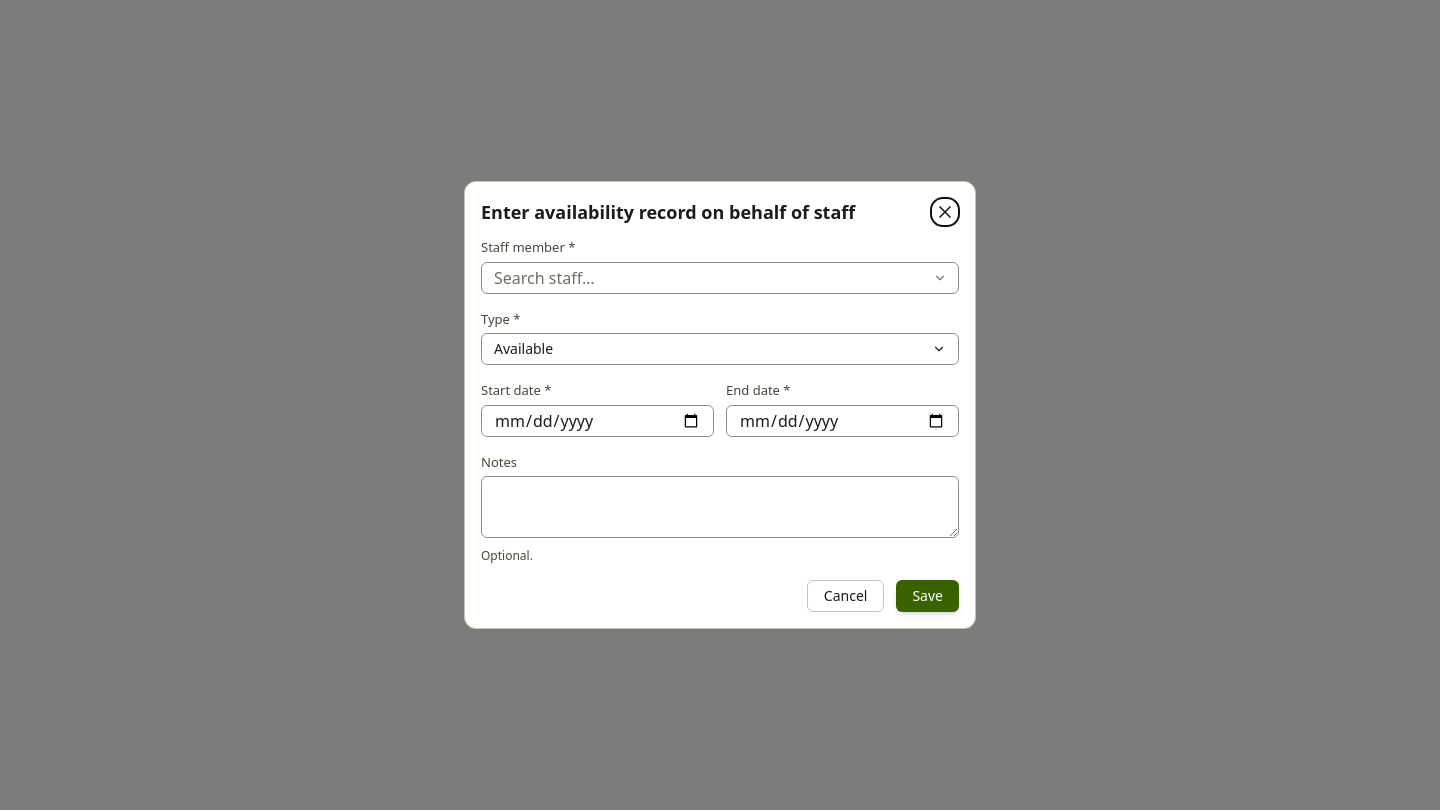
Scenario: AvailabilityRecordFormModal › offers Available/Unavailable/Training/Preferred/Tentative but not Leave as record types
Click the button named "type".
click(524, 348)  # box top-left (481, 333), bottom-right (959, 365)
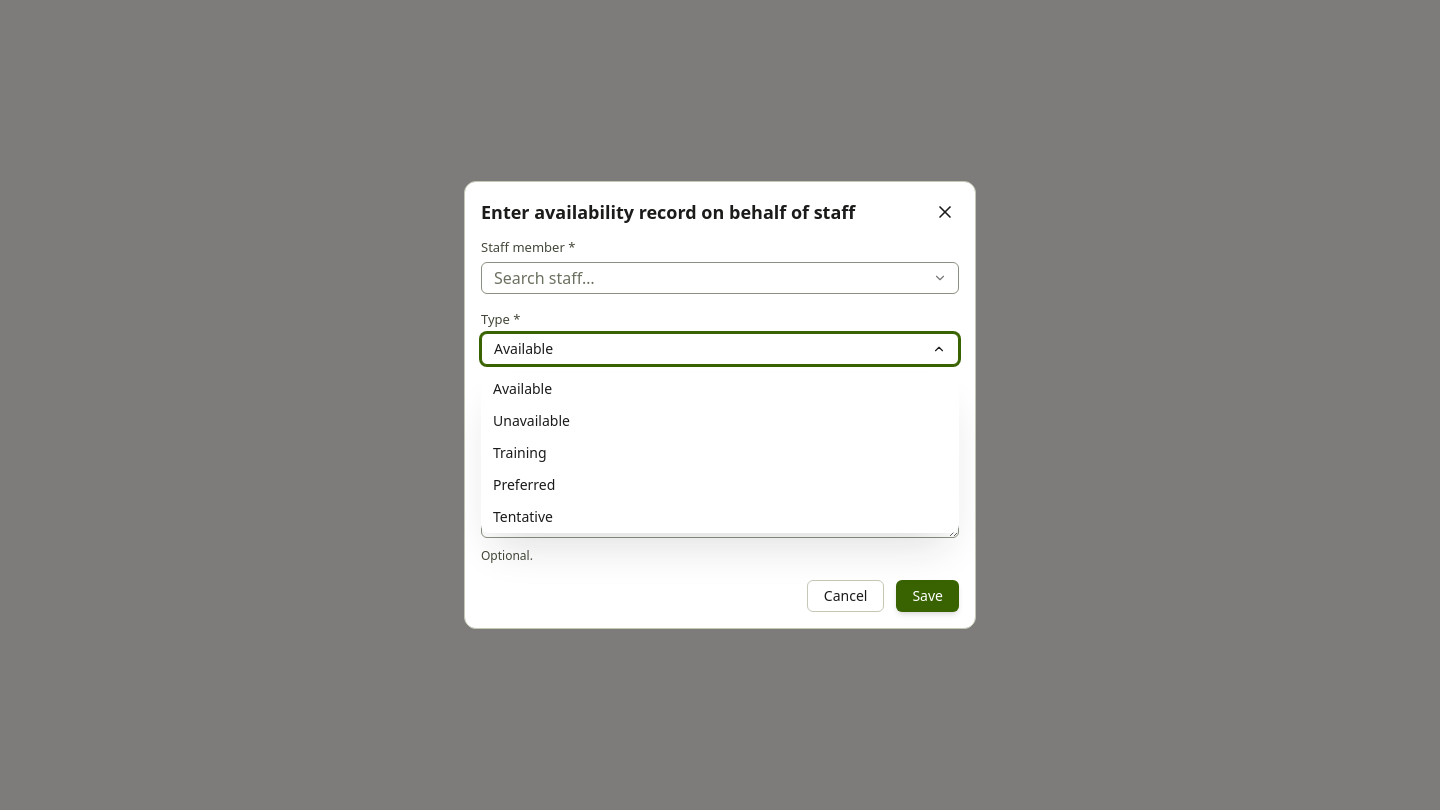
Now the options read "Available", "Unavailable", "Training", "Preferred", "Tentative", in this order, box top-left (493, 379), bottom-right (552, 398); top-left (493, 411), bottom-right (570, 430); top-left (493, 443), bottom-right (547, 462); top-left (493, 475), bottom-right (555, 494); top-left (493, 507), bottom-right (553, 526)
